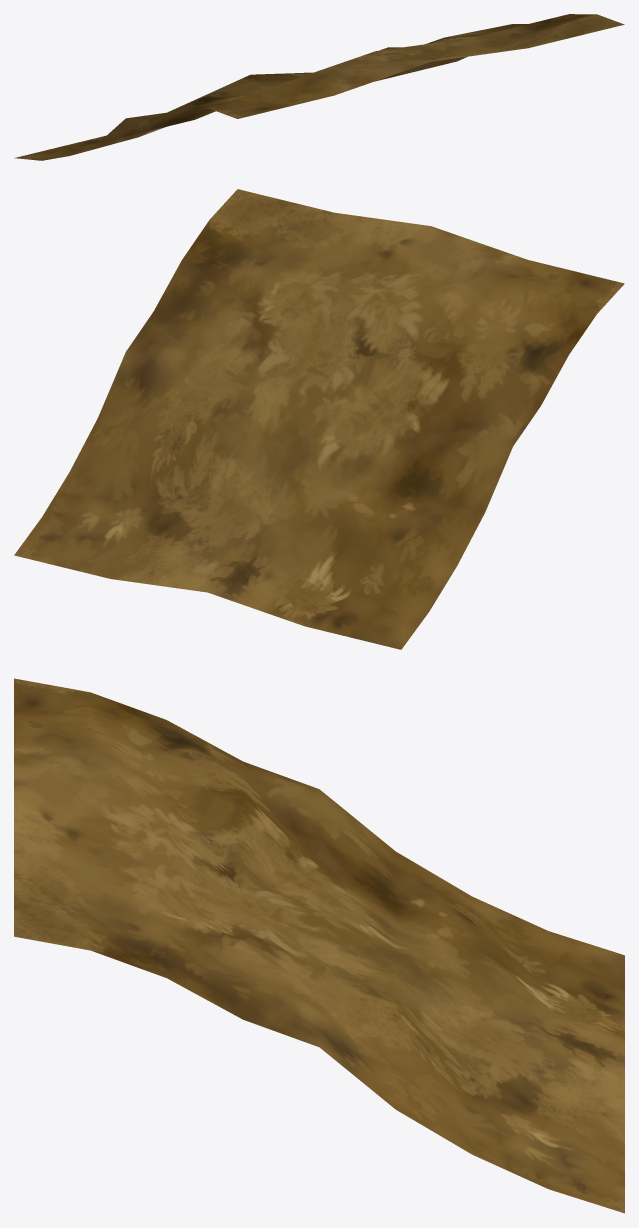
The model's file is Slope_003.fbx.
3 views of the same model, one above another, from view 1: azimuth 30°, elevation 25°; view 2: azimuth 150°, elevation 25°; view 3: azimuth 270°, elevation 25° (orthographic). The views are drawn at different scales.
Visible parts, largest first — view 1: Slope_003; view 2: Slope_003; view 3: Slope_003.
Part boxes in pixels (left/top/right/bottom): Slope_003: left=14, top=14, right=624, bottom=160; Slope_003: left=14, top=189, right=624, bottom=649; Slope_003: left=14, top=678, right=624, bottom=1213.
Size of the model in its own units: 10 by 5.25 by 10.
1 material, 1 textured.
